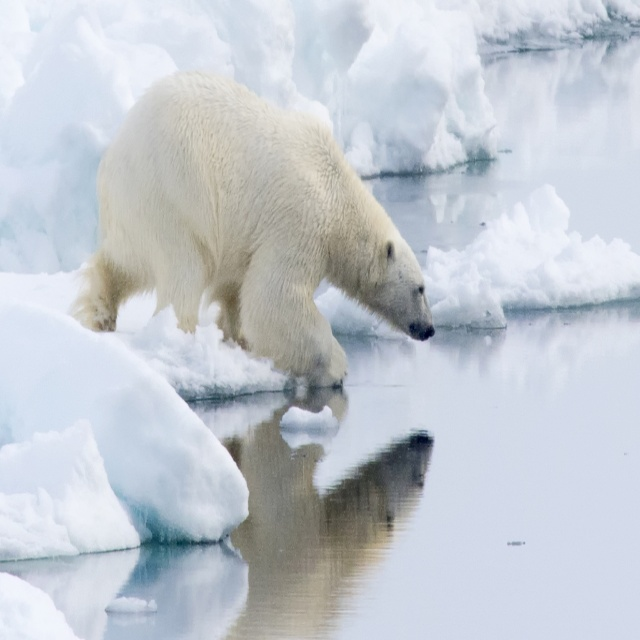Polar bear: (69, 65, 437, 388)
